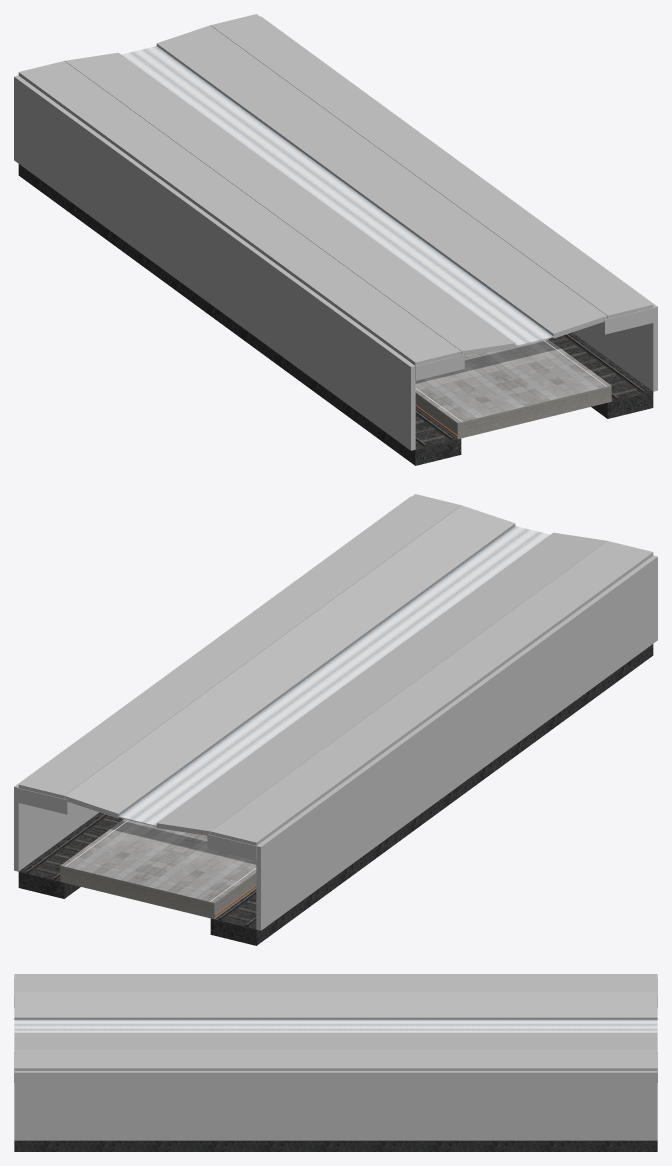
Rendered from Subway02.FBX.
3 views of the same model, one above another, from view 1: azimuth 30°, elevation 25°; view 2: azimuth 150°, elevation 25°; view 3: azimuth 270°, elevation 25° (orthographic). The views are drawn at different scales.
Visible parts, largest first — view 1: Subway02Ceiling, Subway02Side01, Subway02CeilingUp, Subway02CeilingLight, Subway02Floor, Subway02Railfloor, Subway02Side01Part, Subway02Railway; view 2: Subway02Ceiling, Subway02Side01, Subway02CeilingUp, Subway02CeilingLight, Subway02Floor, Subway02Railfloor, Subway02Side01Part, Subway02Railway; view 3: Subway02Side01, Subway02Ceiling, Subway02CeilingUp, Subway02CeilingLight, Subway02Railfloor.
Boxes of the visible parts, <box> form: Subway02Ceiling: <box>65,25,607,355</box>; Subway02Side01: <box>14,16,657,450</box>; Subway02CeilingUp: <box>18,14,653,365</box>; Subway02CeilingLight: <box>121,46,553,346</box>; Subway02Floor: <box>415,339,611,439</box>; Subway02Railfloor: <box>18,164,653,465</box>; Subway02Side01Part: <box>415,308,653,380</box>; Subway02Railway: <box>415,334,645,446</box>; Subway02Ceiling: <box>64,505,606,835</box>; Subway02Side01: <box>14,496,657,930</box>; Subway02CeilingUp: <box>18,494,653,845</box>; Subway02CeilingLight: <box>118,526,550,826</box>; Subway02Floor: <box>60,819,256,919</box>; Subway02Railfloor: <box>18,644,653,945</box>; Subway02Side01Part: <box>18,788,256,860</box>; Subway02Railway: <box>26,814,256,926</box>; Subway02Side01: <box>14,1071,657,1140</box>; Subway02Ceiling: <box>14,992,657,1049</box>; Subway02CeilingUp: <box>14,974,657,1070</box>; Subway02CeilingLight: <box>14,1019,657,1032</box>; Subway02Railfloor: <box>14,1140,657,1151</box>.
Size of the model in its own units: 26950 by 10772 by 75107.
